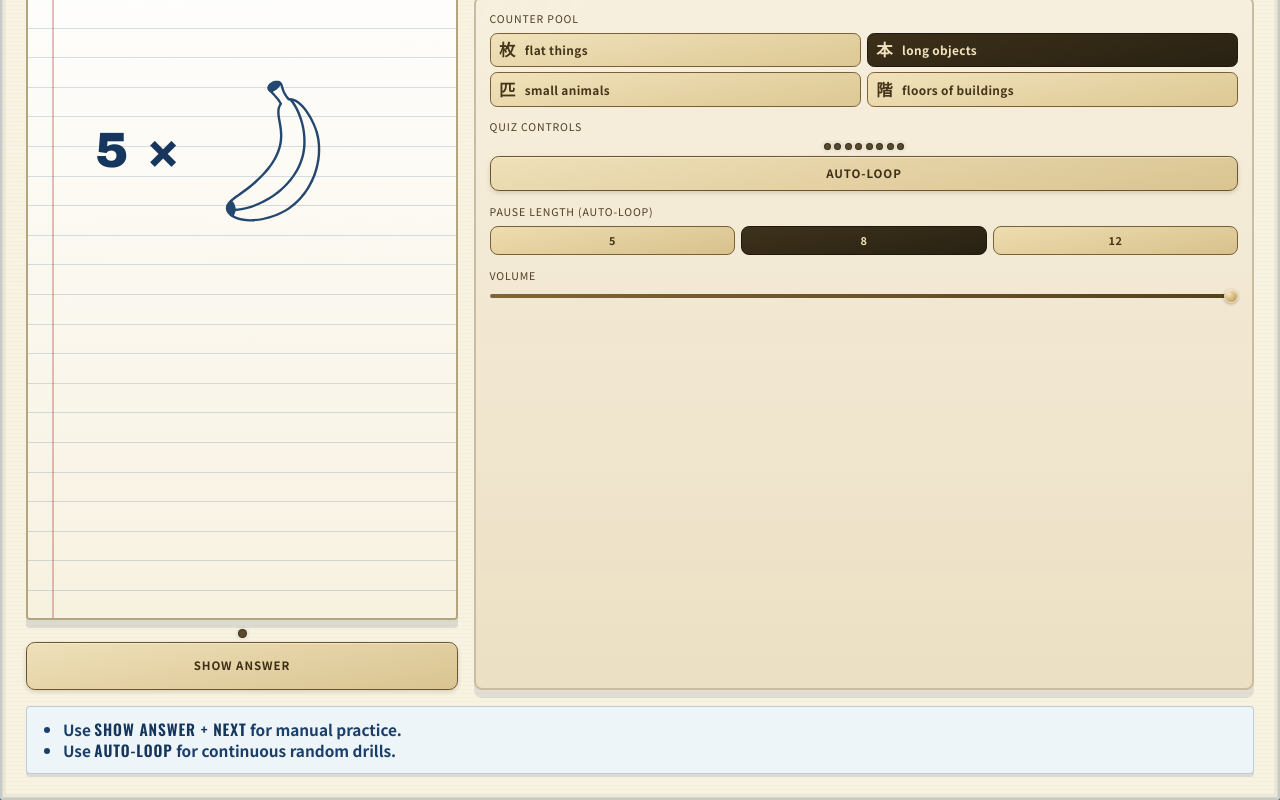
Test case: JapaneseCounterPracticeToolPage › does not render furigana for katakana object words
(page scrolled)
Click the button "Show Answer": (242, 666) [26,642,458,690]
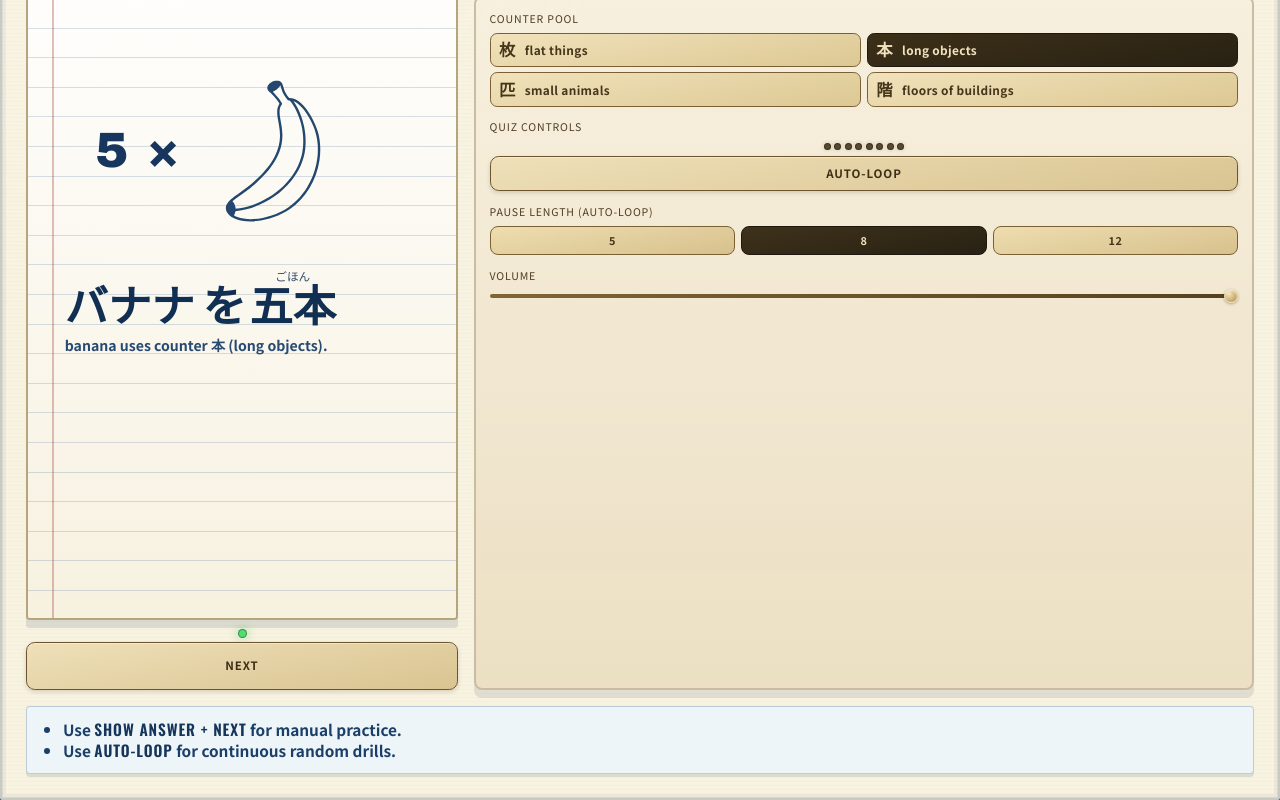
Result: the text "バナナ" is shown at [65,272,194,334]
Result: the text "ごほん" is shown at [250,267,336,284]
